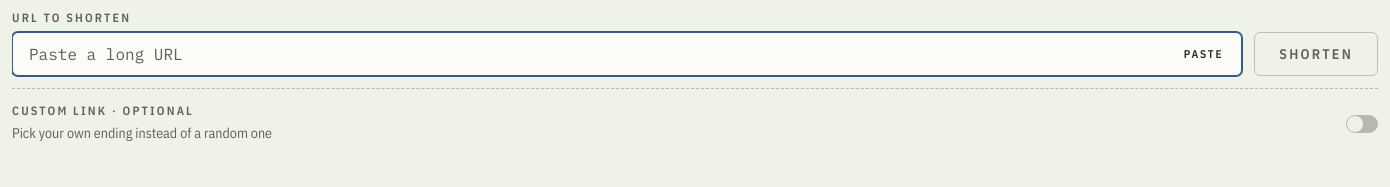
Test: UrlForm › Paste button › shows a message when the clipboard cannot be read
Click the button "Paste": (1204, 54) [1173,40,1234,68]
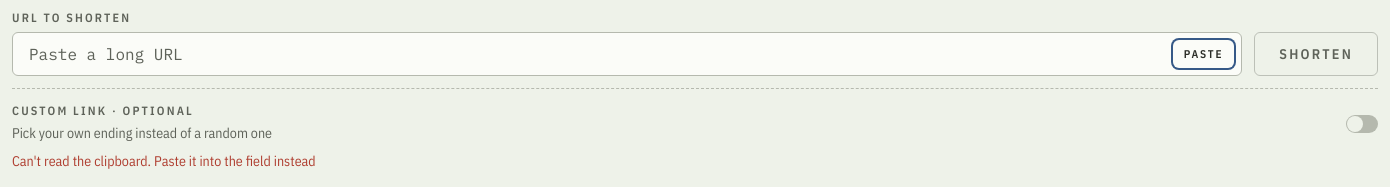
Expected: the message reads "Can't read the clipboard. Paste it into the field instead", [12,152,316,170]
